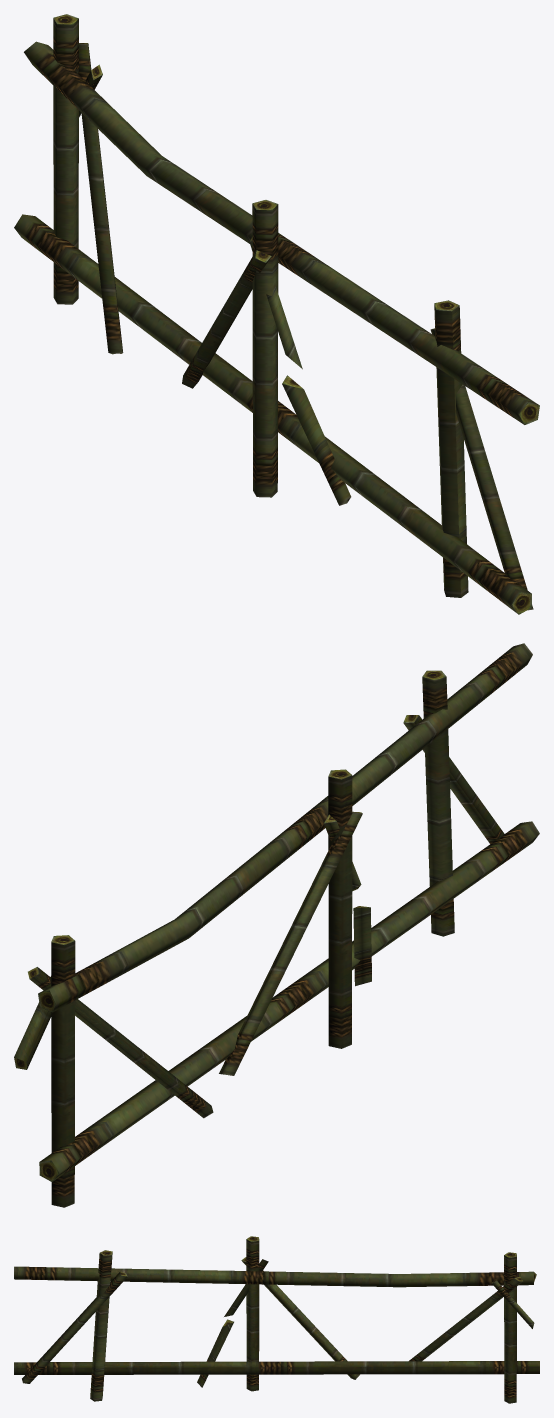
The model's file is weilan_zhufang_20.fbx.
3 renders of one model, top to bottom at view 1: azimuth 30°, elevation 25°; view 2: azimuth 150°, elevation 25°; view 3: azimuth 270°, elevation 25°, orthographic. The views are drawn at different scales.
Visible parts, largest first — view 1: weilan_zhufang_20; view 2: weilan_zhufang_20; view 3: weilan_zhufang_20.
Boxes of the visible parts, <box> form: weilan_zhufang_20: <box>14,14,539,614</box>; weilan_zhufang_20: <box>14,643,539,1207</box>; weilan_zhufang_20: <box>14,1236,539,1403</box>.
Size of what is drawn, in the model's own units: 63.52 by 183 by 583.
